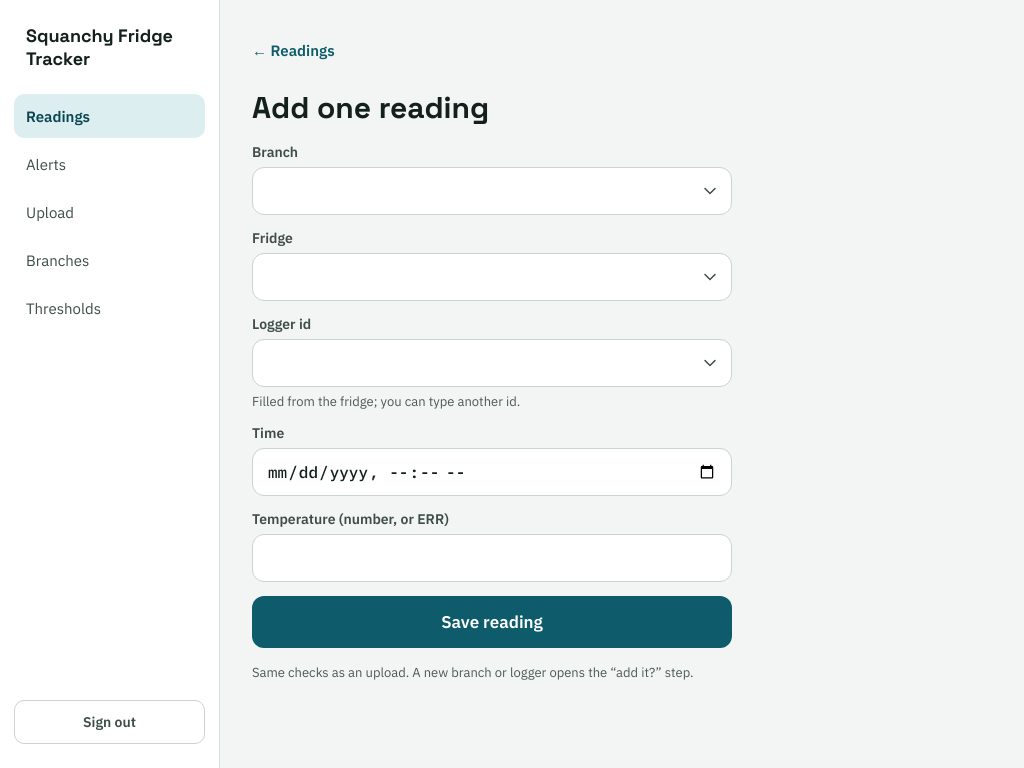
Scenario: SingleRecordPage › offers a branch added through the dialog on the next reading
Expected: the heading "Add one reading" is shown, [252,88,489,127]
Step 1. Type "Eilat" into the dropdown labelled "Branch" → (492, 191), box [252,167,732,215]
Then press Escape
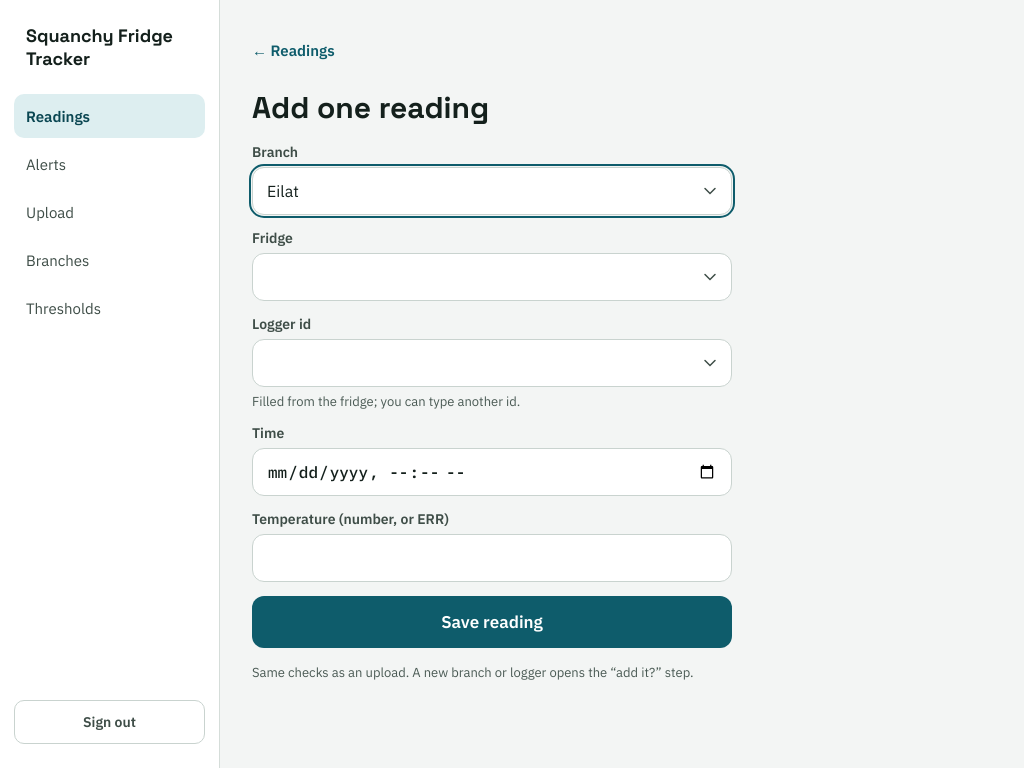
Step 2. Click the button "Save reading" → (492, 622), box [252,596,732,648]
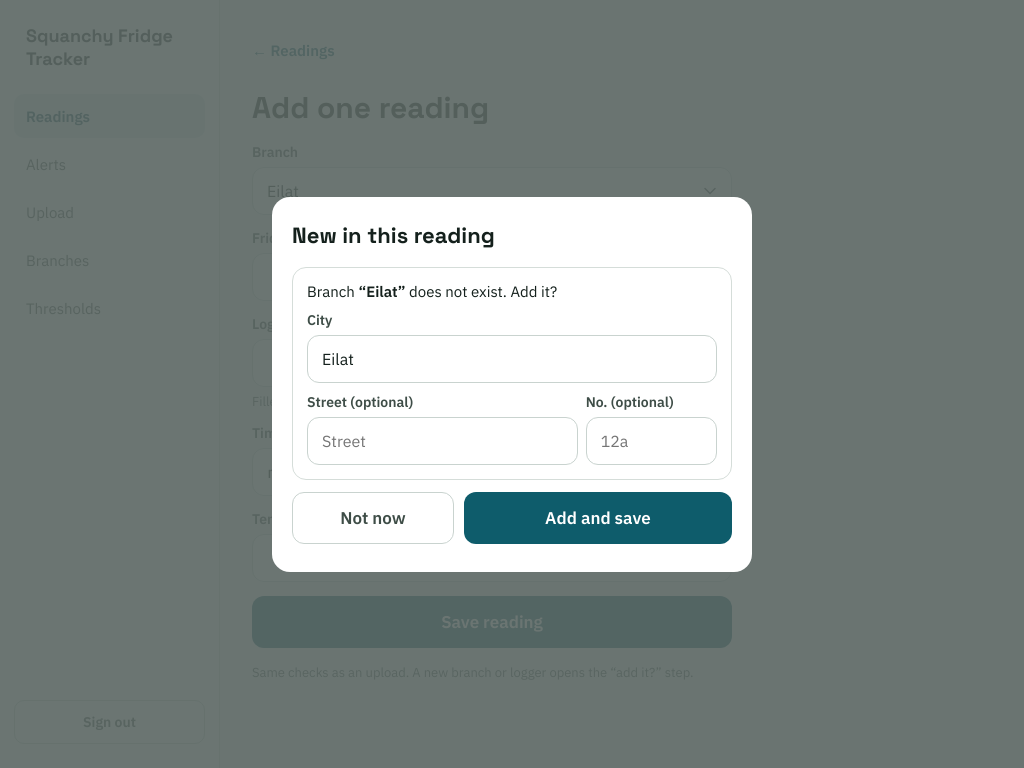
Step 3. Click the button "Add and save" → (598, 518), box [464,492,732,544]
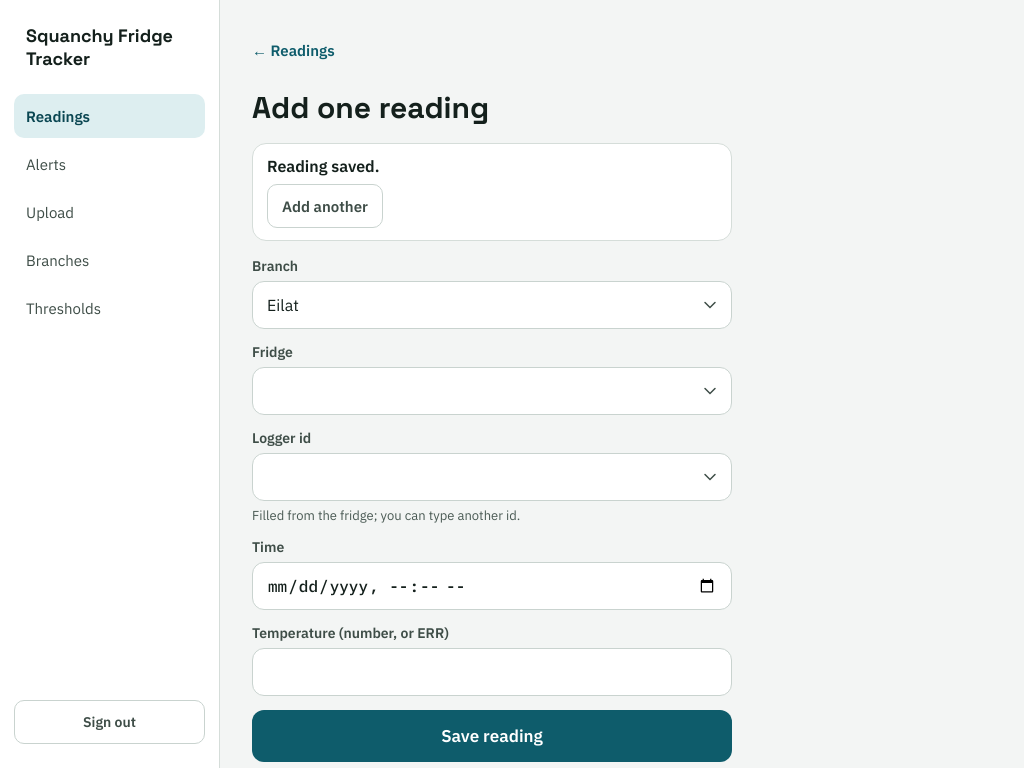
Step 4. Click the button "Add another" → (325, 206), box [267,184,383,228]
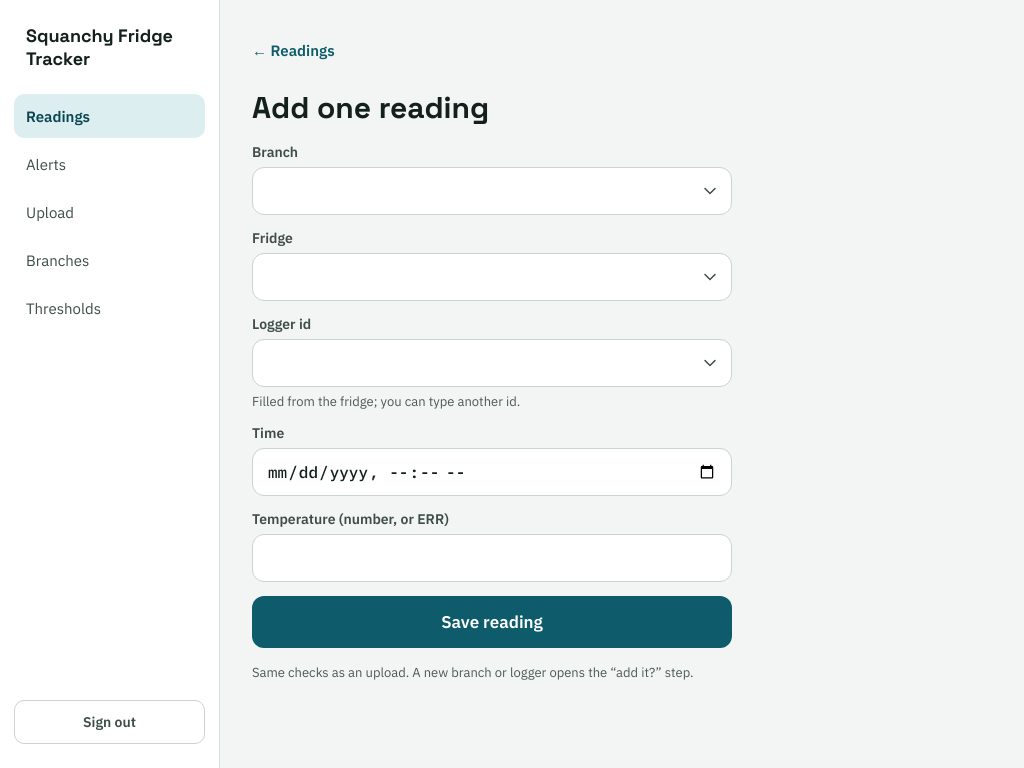
Step 5. Type "Eilat" into the dropdown labelled "Branch" → (492, 191), box [252,167,732,215]
Then press Escape
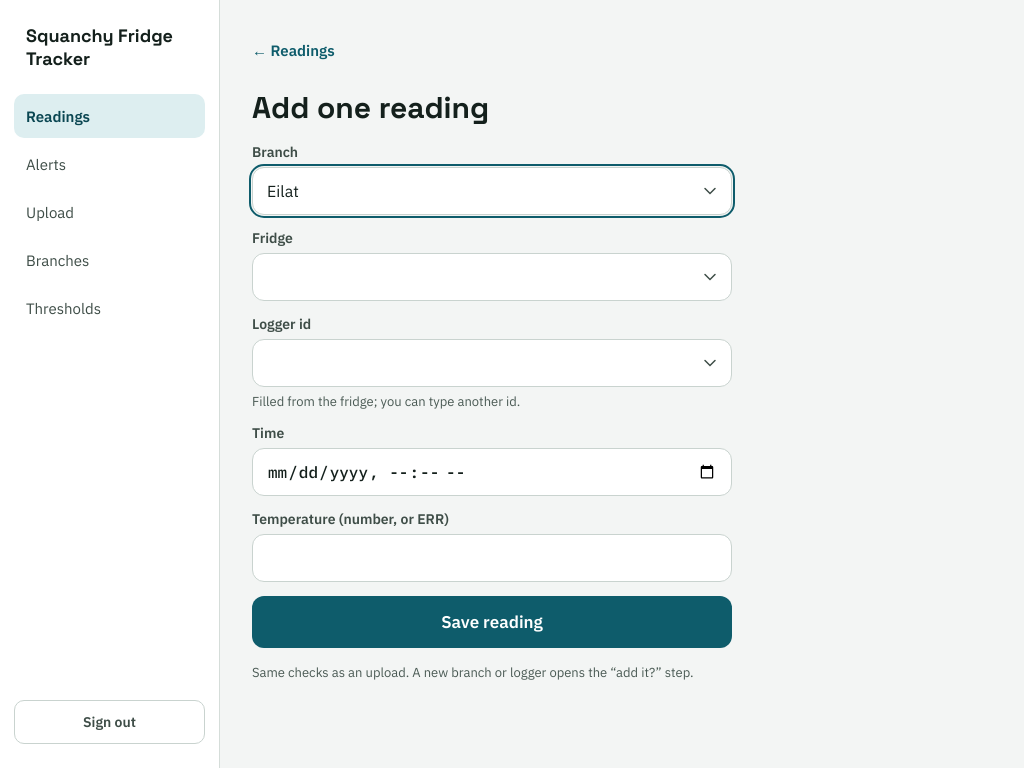
Step 6. Type "Display" into the dropdown labelled "Fridge" → (492, 277), box [252,253,732,301]
Then press Escape
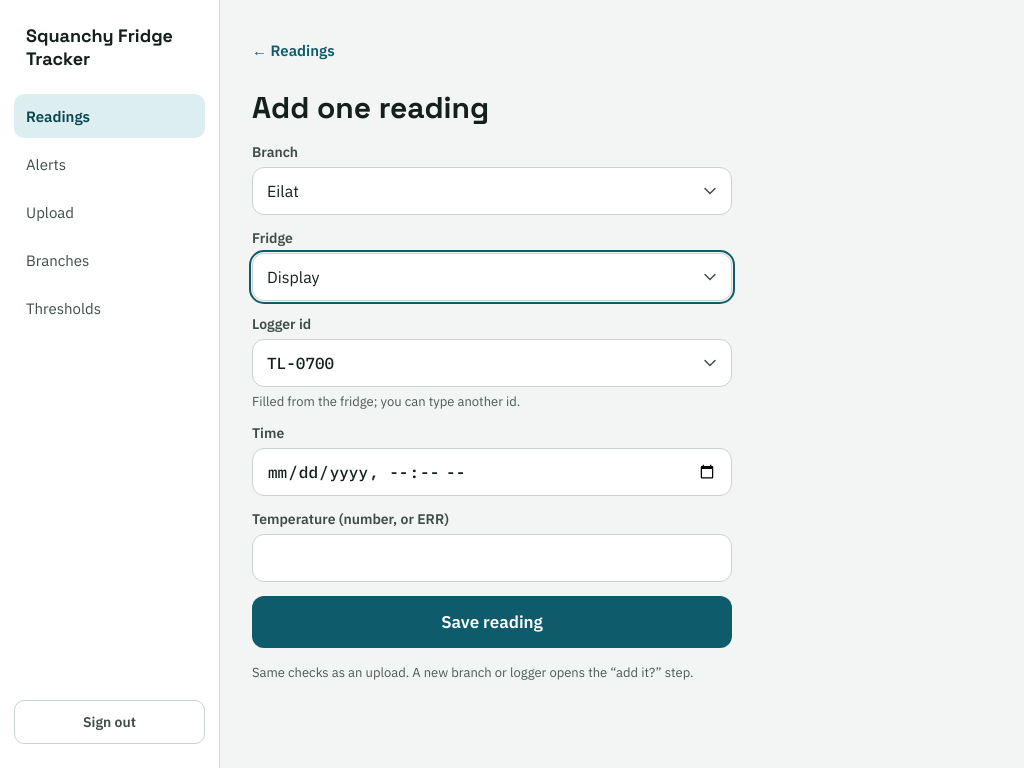
Result: the dropdown labelled "Logger id" holds "TL-0700" at [252,339,732,387]
